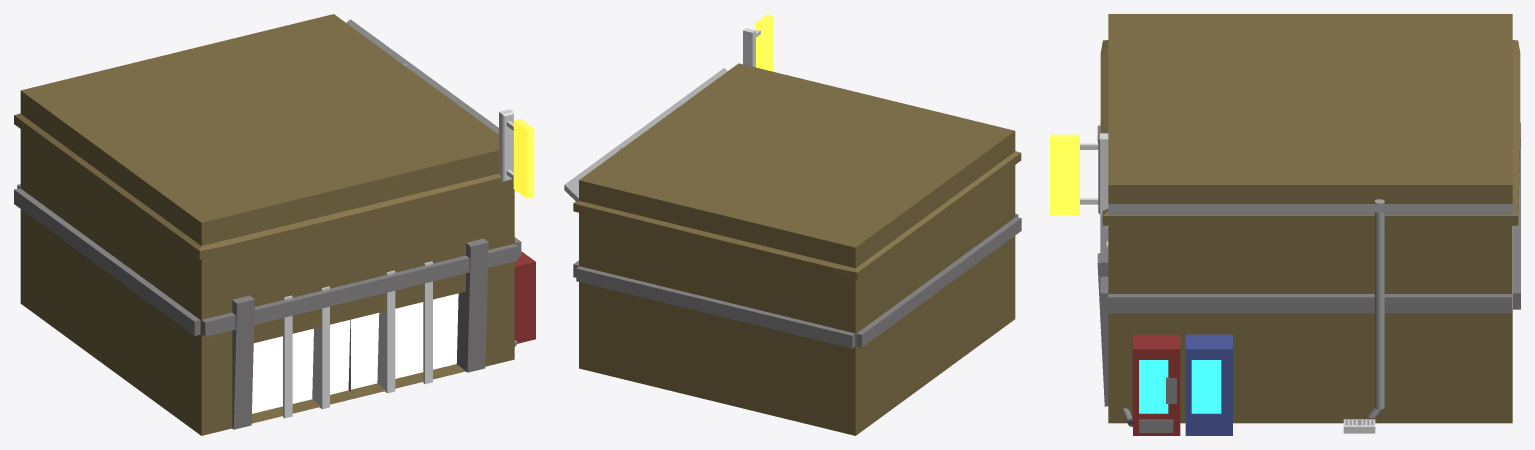
3 renders of one model, left to right at view 1: azimuth 30°, elevation 25°; view 2: azimuth 150°, elevation 25°; view 3: azimuth 270°, elevation 25°, orthographic. The views are drawn at different scales.
Visible parts, largest first — view 1: Cube, Cube.004, Cube.006, Cube.011, Cube.020, Cube.005, Cube.017, Cube.023, Cube.015, Cube.024, Cube.002, Cube.021 (+2 smaller); view 2: Cube, Cube.009, Cube.011, Cube.002, Cube.015, Cube.012; view 3: Cube, Cube.010, Cube.002, Cube.007, Cube.017, Cube.015, Cylinder.001, Cube.008, Cube.016, Cube.020, Cube.009, Cube.012 (+3 smaller).
Boxes of the visible parts, x1,y1,x2,y2 form: Cube: [14, 14, 514, 435]; Cube.004: [252, 293, 458, 413]; Cube.006: [201, 243, 517, 336]; Cube.011: [14, 188, 200, 335]; Cube.020: [456, 238, 488, 372]; Cube.005: [232, 295, 254, 429]; Cube.017: [514, 251, 535, 343]; Cube.023: [377, 270, 395, 393]; Cube.015: [513, 119, 534, 198]; Cube.024: [312, 286, 329, 409]; Cube.002: [346, 19, 498, 134]; Cube.021: [283, 295, 292, 418]; Cube: [573, 63, 1021, 435]; Cube.009: [576, 266, 855, 348]; Cube.011: [856, 217, 1021, 347]; Cube.002: [564, 68, 727, 201]; Cube.015: [755, 14, 773, 71]; Cube.012: [743, 28, 755, 67]; Cube: [1100, 14, 1520, 423]; Cube.010: [1108, 294, 1511, 313]; Cube.002: [1108, 204, 1512, 214]; Cube.007: [1185, 334, 1232, 435]; Cube.017: [1132, 334, 1180, 435]; Cube.015: [1050, 134, 1079, 215]; Cylinder.001: [1368, 199, 1384, 417]; Cube.008: [1191, 360, 1221, 413]; Cube.016: [1139, 360, 1168, 413]; Cube.020: [1097, 253, 1108, 406]; Cube.009: [1513, 122, 1520, 309]; Cube.012: [1098, 133, 1108, 214].
Size of what is drawn, in the model's own units: 14.06 by 9.65 by 14.5.
